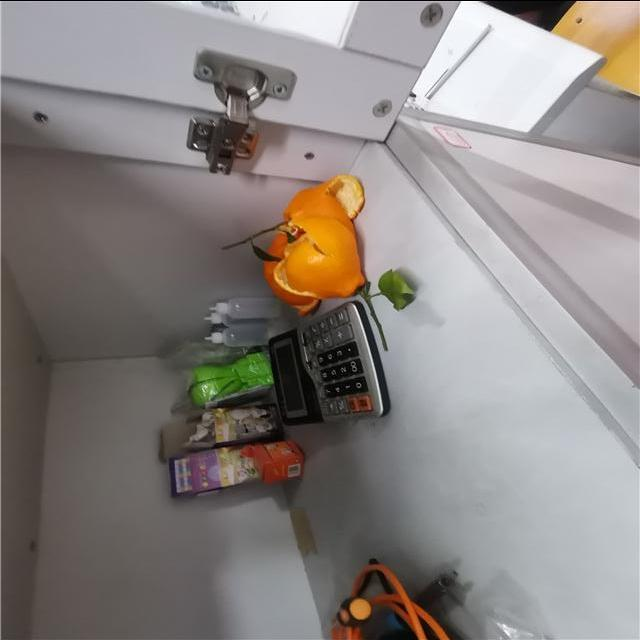orange peel: (273, 167, 370, 299)
